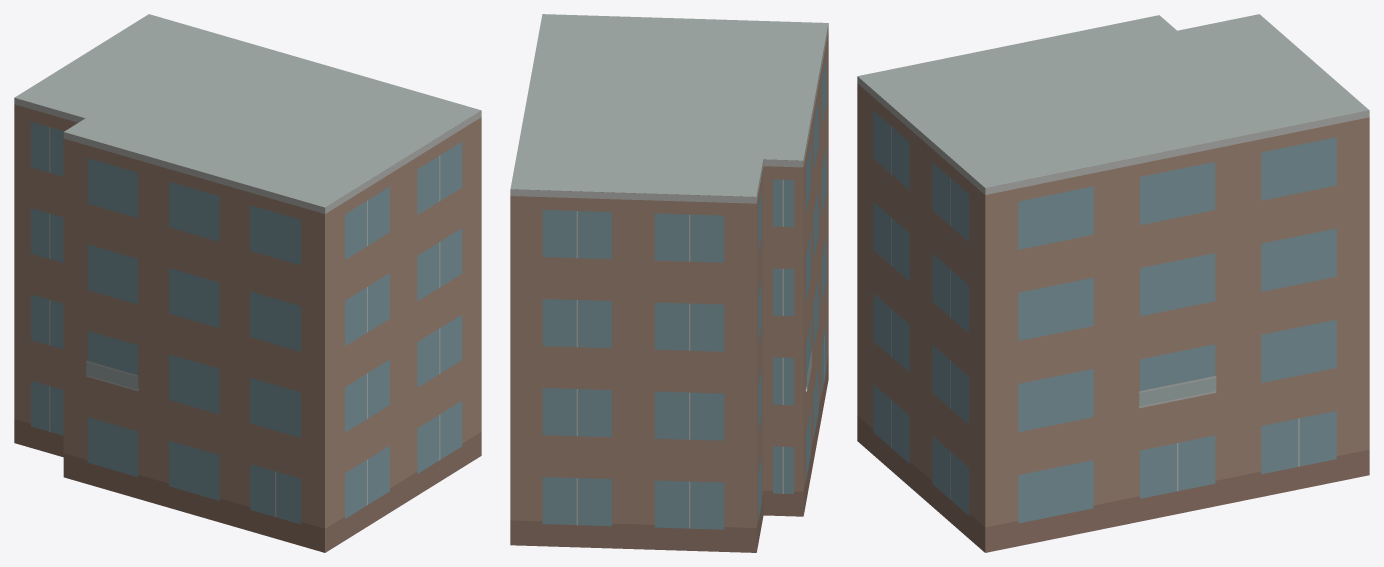
The model's file is survey-upis-32806601.glb.
3 views of the same model, side by side, from view 1: azimuth 30°, elevation 25°; view 2: azimuth 150°, elevation 25°; view 3: azimuth 270°, elevation 25° (orthographic). The views are drawn at different scales.
Parts seen in each view (by area): view 1: survey-upis-32806601.tmp; view 2: survey-upis-32806601.tmp; view 3: survey-upis-32806601.tmp.
Boxes of the visible parts, x1,y1,x2,y2 form: survey-upis-32806601.tmp: [14, 14, 481, 552]; survey-upis-32806601.tmp: [510, 14, 828, 552]; survey-upis-32806601.tmp: [857, 14, 1369, 552].
Size of the model in its own units: 13.03 by 12.73 by 16.21.
